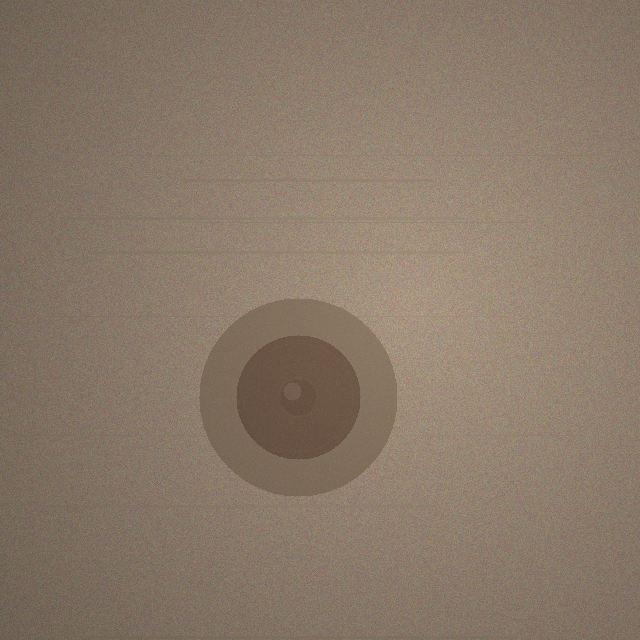good: (199, 298, 397, 496)
